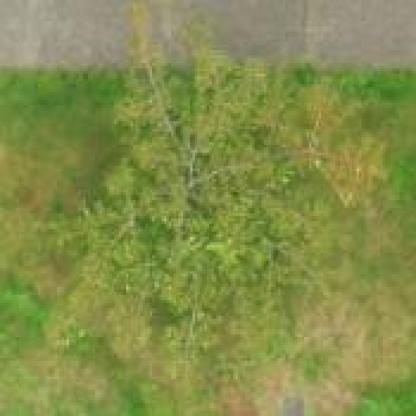Deciduous Tree: (48, 24, 404, 398)
